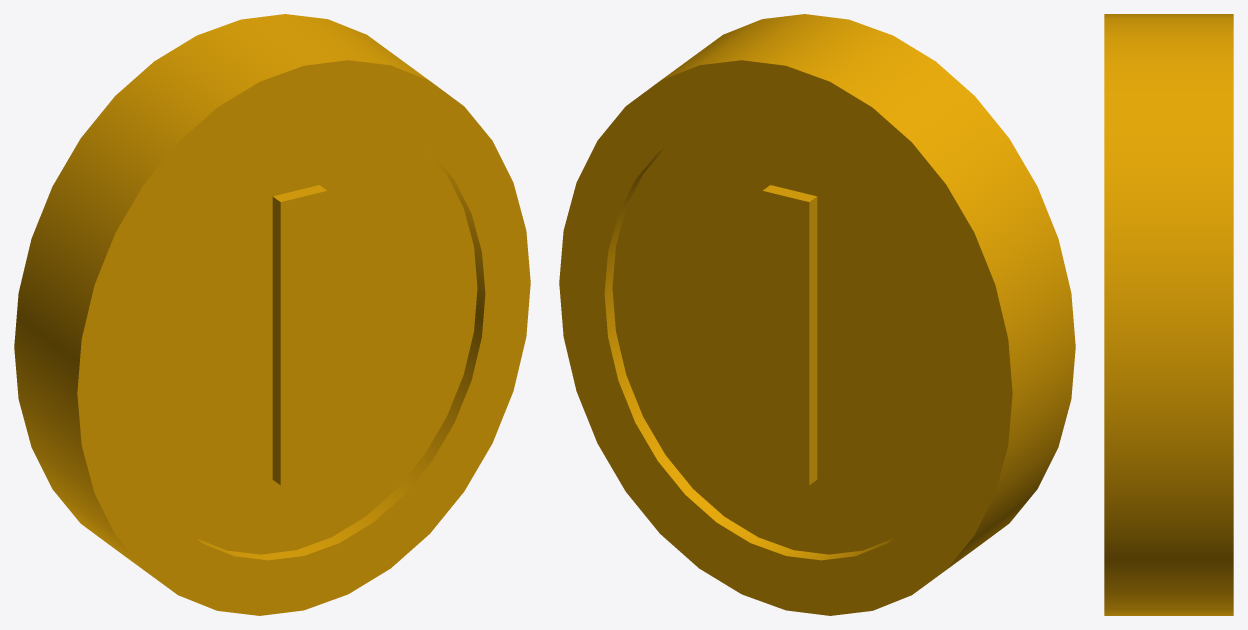
File: coinobj_coin_0.002_lev1.glb
3 views of the same model, side by side, from view 1: azimuth 30°, elevation 25°; view 2: azimuth 150°, elevation 25°; view 3: azimuth 270°, elevation 25° (orthographic). The views are drawn at different scales.
Parts seen in each view (by area): view 1: coinobj_coin_0.002_lev1; view 2: coinobj_coin_0.002_lev1; view 3: coinobj_coin_0.002_lev1.
Boxes of the visible parts, bbox=[...] form: coinobj_coin_0.002_lev1: bbox=[14, 14, 530, 615]; coinobj_coin_0.002_lev1: bbox=[559, 14, 1075, 615]; coinobj_coin_0.002_lev1: bbox=[1104, 14, 1233, 615].
Bounding box in the file's own units: 3.48 × 4 × 0.84.
